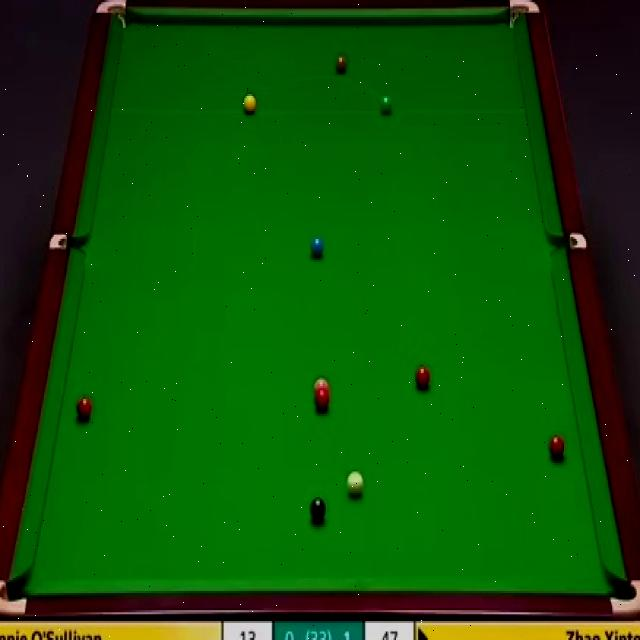black-ball: (308, 496, 327, 522)
blue-ball: (310, 238, 323, 260)
brown-ball: (332, 55, 348, 75)
green-ball: (378, 92, 393, 115)
pink-ball: (313, 378, 326, 398)
red-ball: (548, 433, 564, 462), (74, 398, 92, 422), (414, 366, 430, 389), (315, 393, 329, 417)
white-ball: (346, 470, 365, 498)
yellow-ball: (242, 93, 256, 115)
